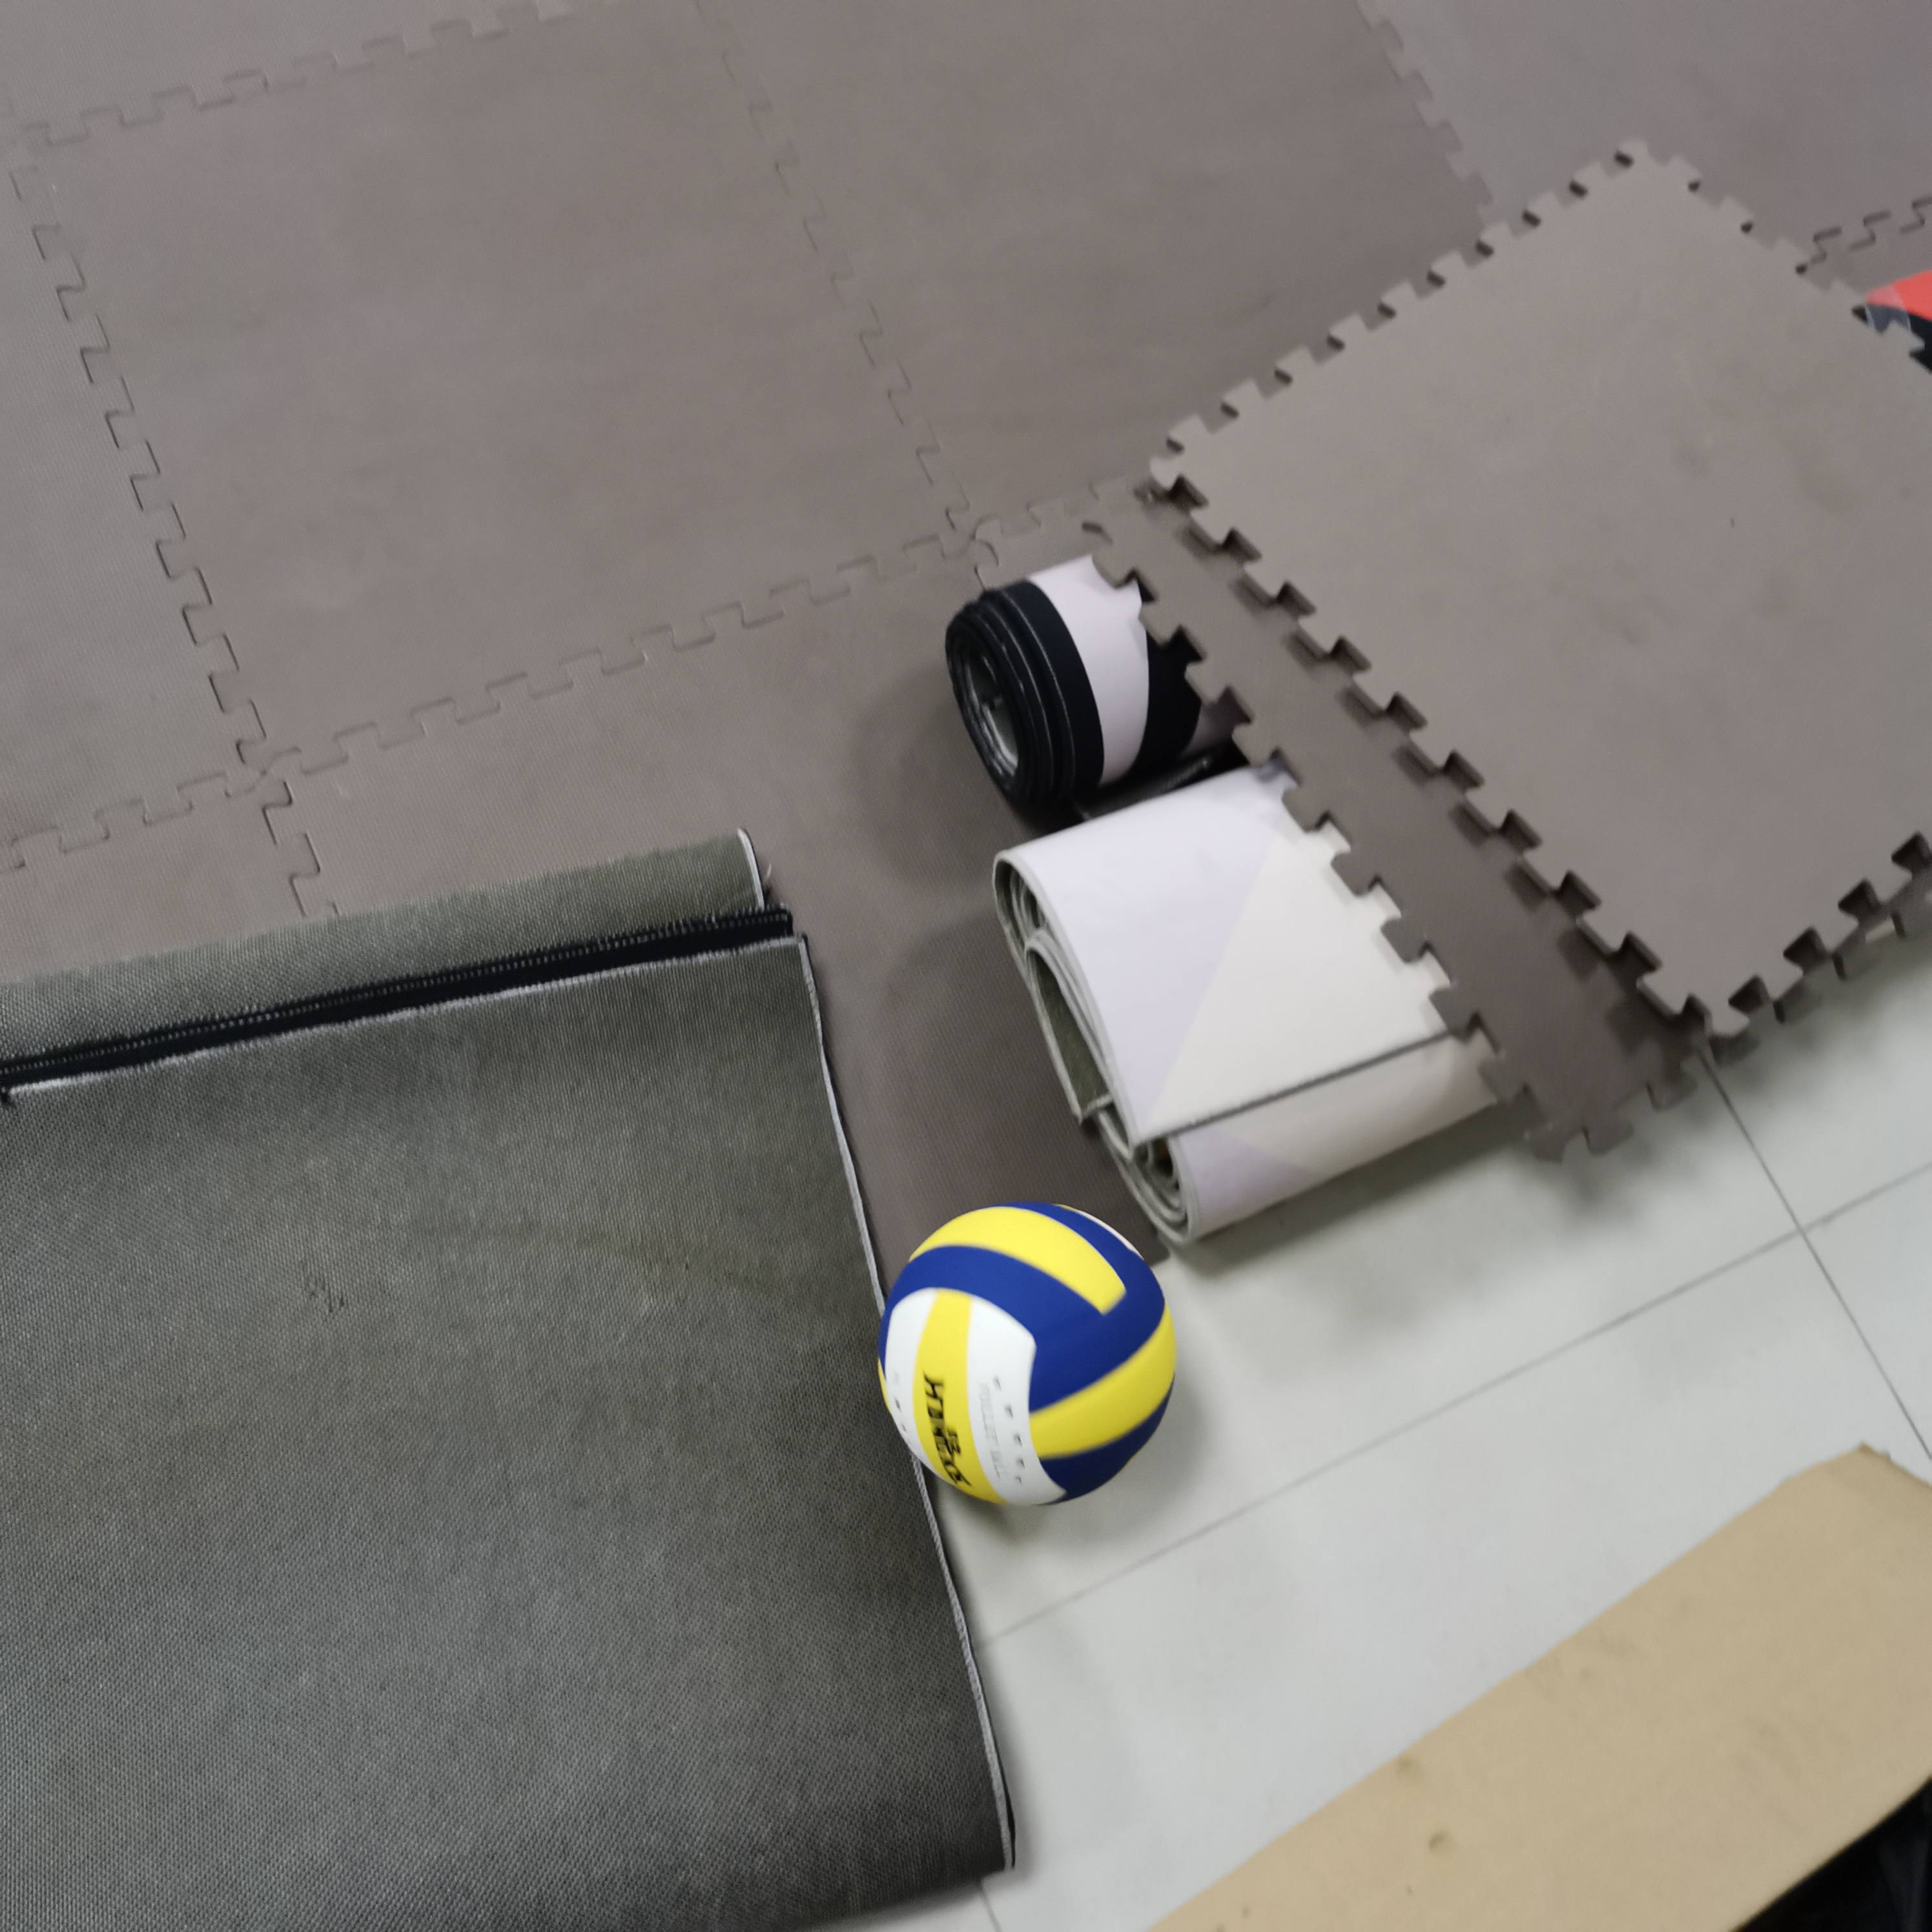volleyball: (872, 1210, 1177, 1516)
